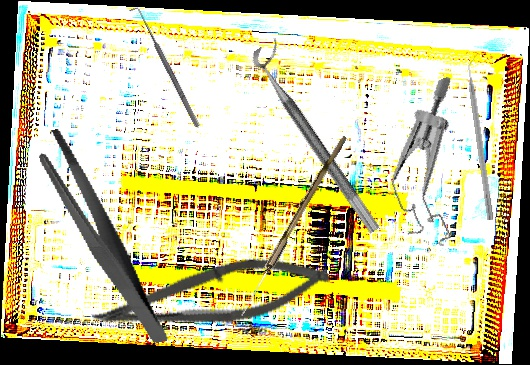Chopper: (464, 54, 503, 221)
Dressing Forceps: (33, 115, 169, 360)
Fixation Ring: (248, 37, 396, 235)
Hook Surgical: (128, 3, 203, 132)
Micro Scissor: (87, 239, 334, 357)
Speculum: (359, 75, 506, 257)
Surgical Spoon: (237, 133, 348, 319)
